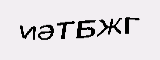Б: (75, 17, 96, 40)
Г: (122, 15, 141, 35)
Ж: (97, 16, 122, 35)
И: (15, 22, 38, 42)
Т: (55, 19, 75, 39)
Ә: (38, 21, 54, 41)
